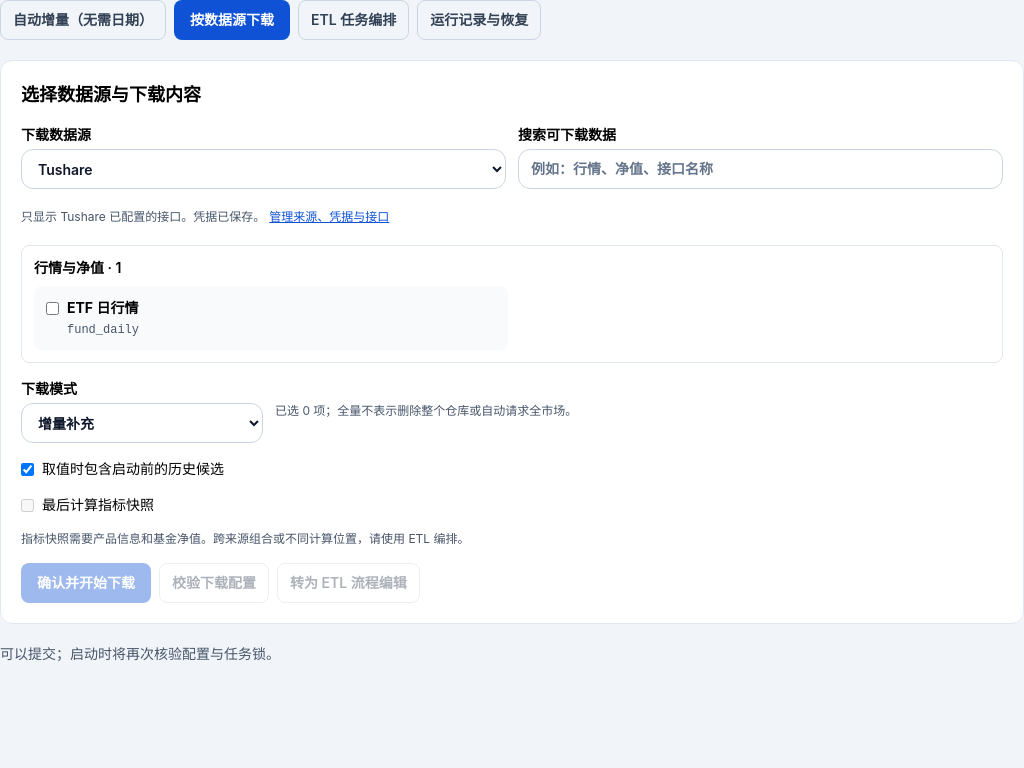
Test: 多源下载与 ETL › 切换来源只显示该来源数据，保留既有默认参数
The image size is (1024, 768).
Expected: the heading "选择数据源与下载内容" is shown, [21,84,201,105]
Expected: the checkbox labelled "ETF 日行情" is shown, [46,302,59,315]
Select "AKShare" in the dropdown labelled "下载数据源" at [264, 169], box [21,149,506,189]
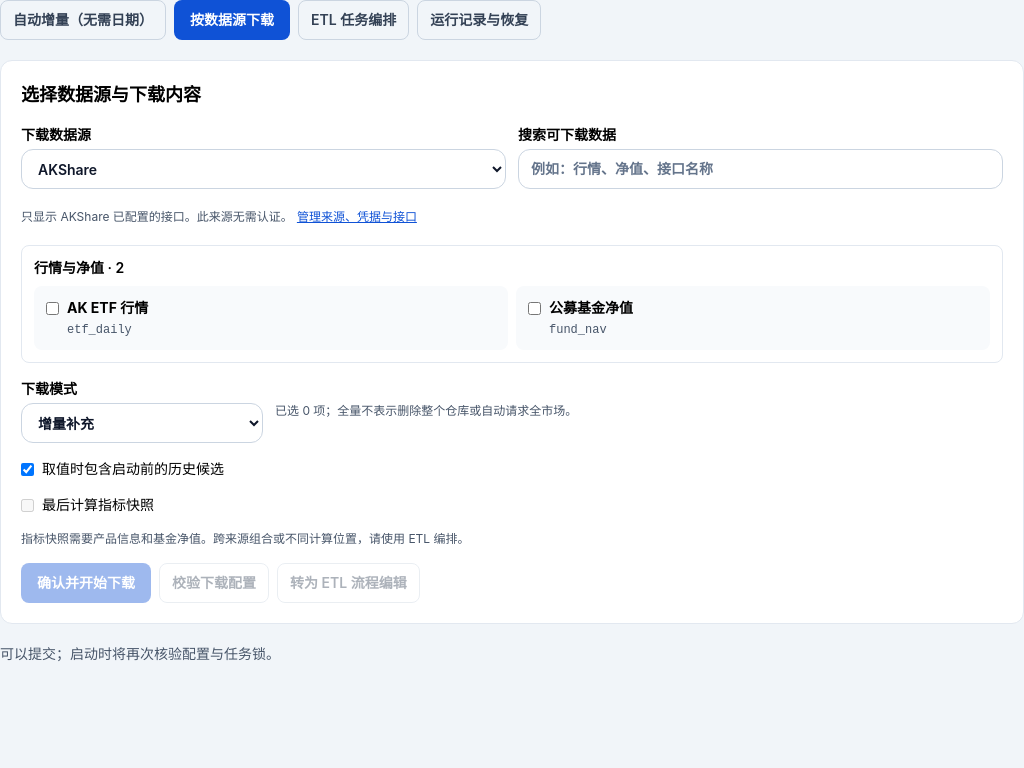
Expected: the checkbox labelled "公募基金净值" is shown, [528,302,541,315]
Expected: the text "fund_daily" is gone
Click the checkbox labelled "AK ETF 行情" at [52, 308], box [46,302,59,315]
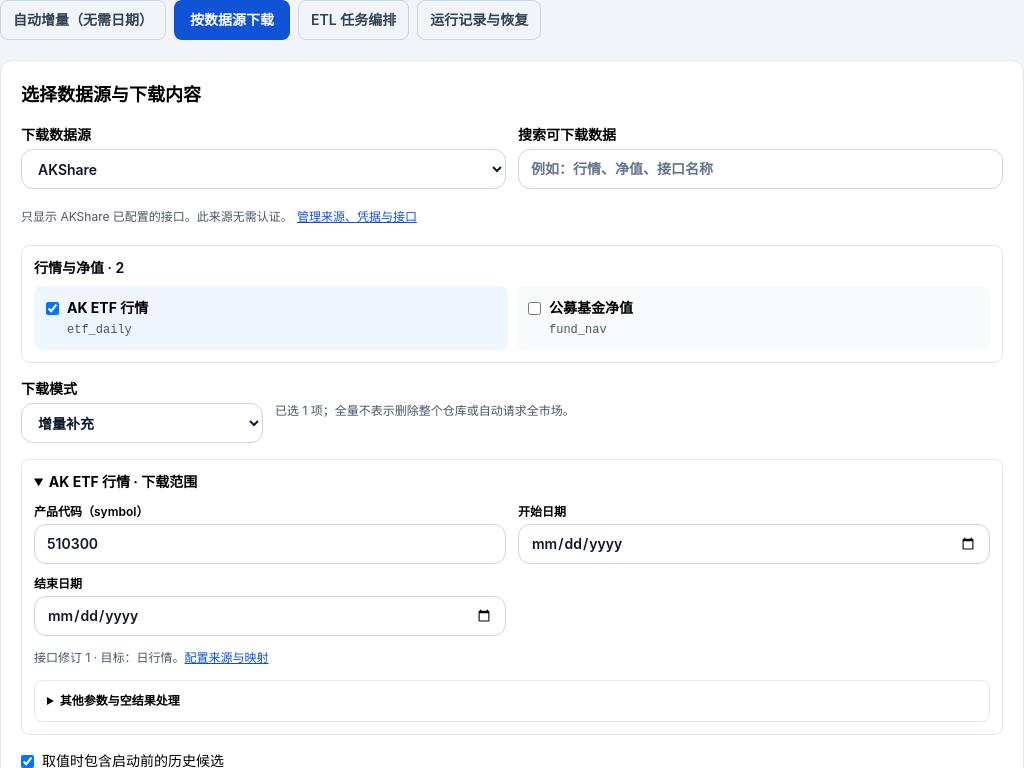
Expected: the field labelled "产品代码（symbol）" holds "510300", [34,524,506,564]
